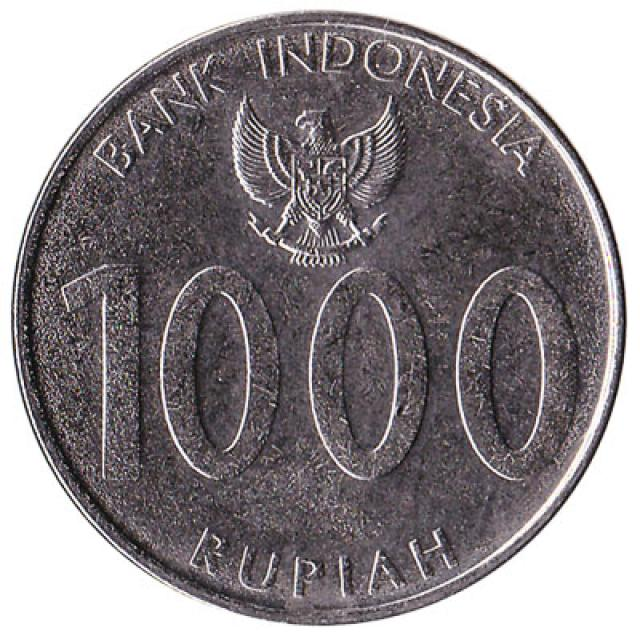1000-angklung: (14, 12, 624, 623)
